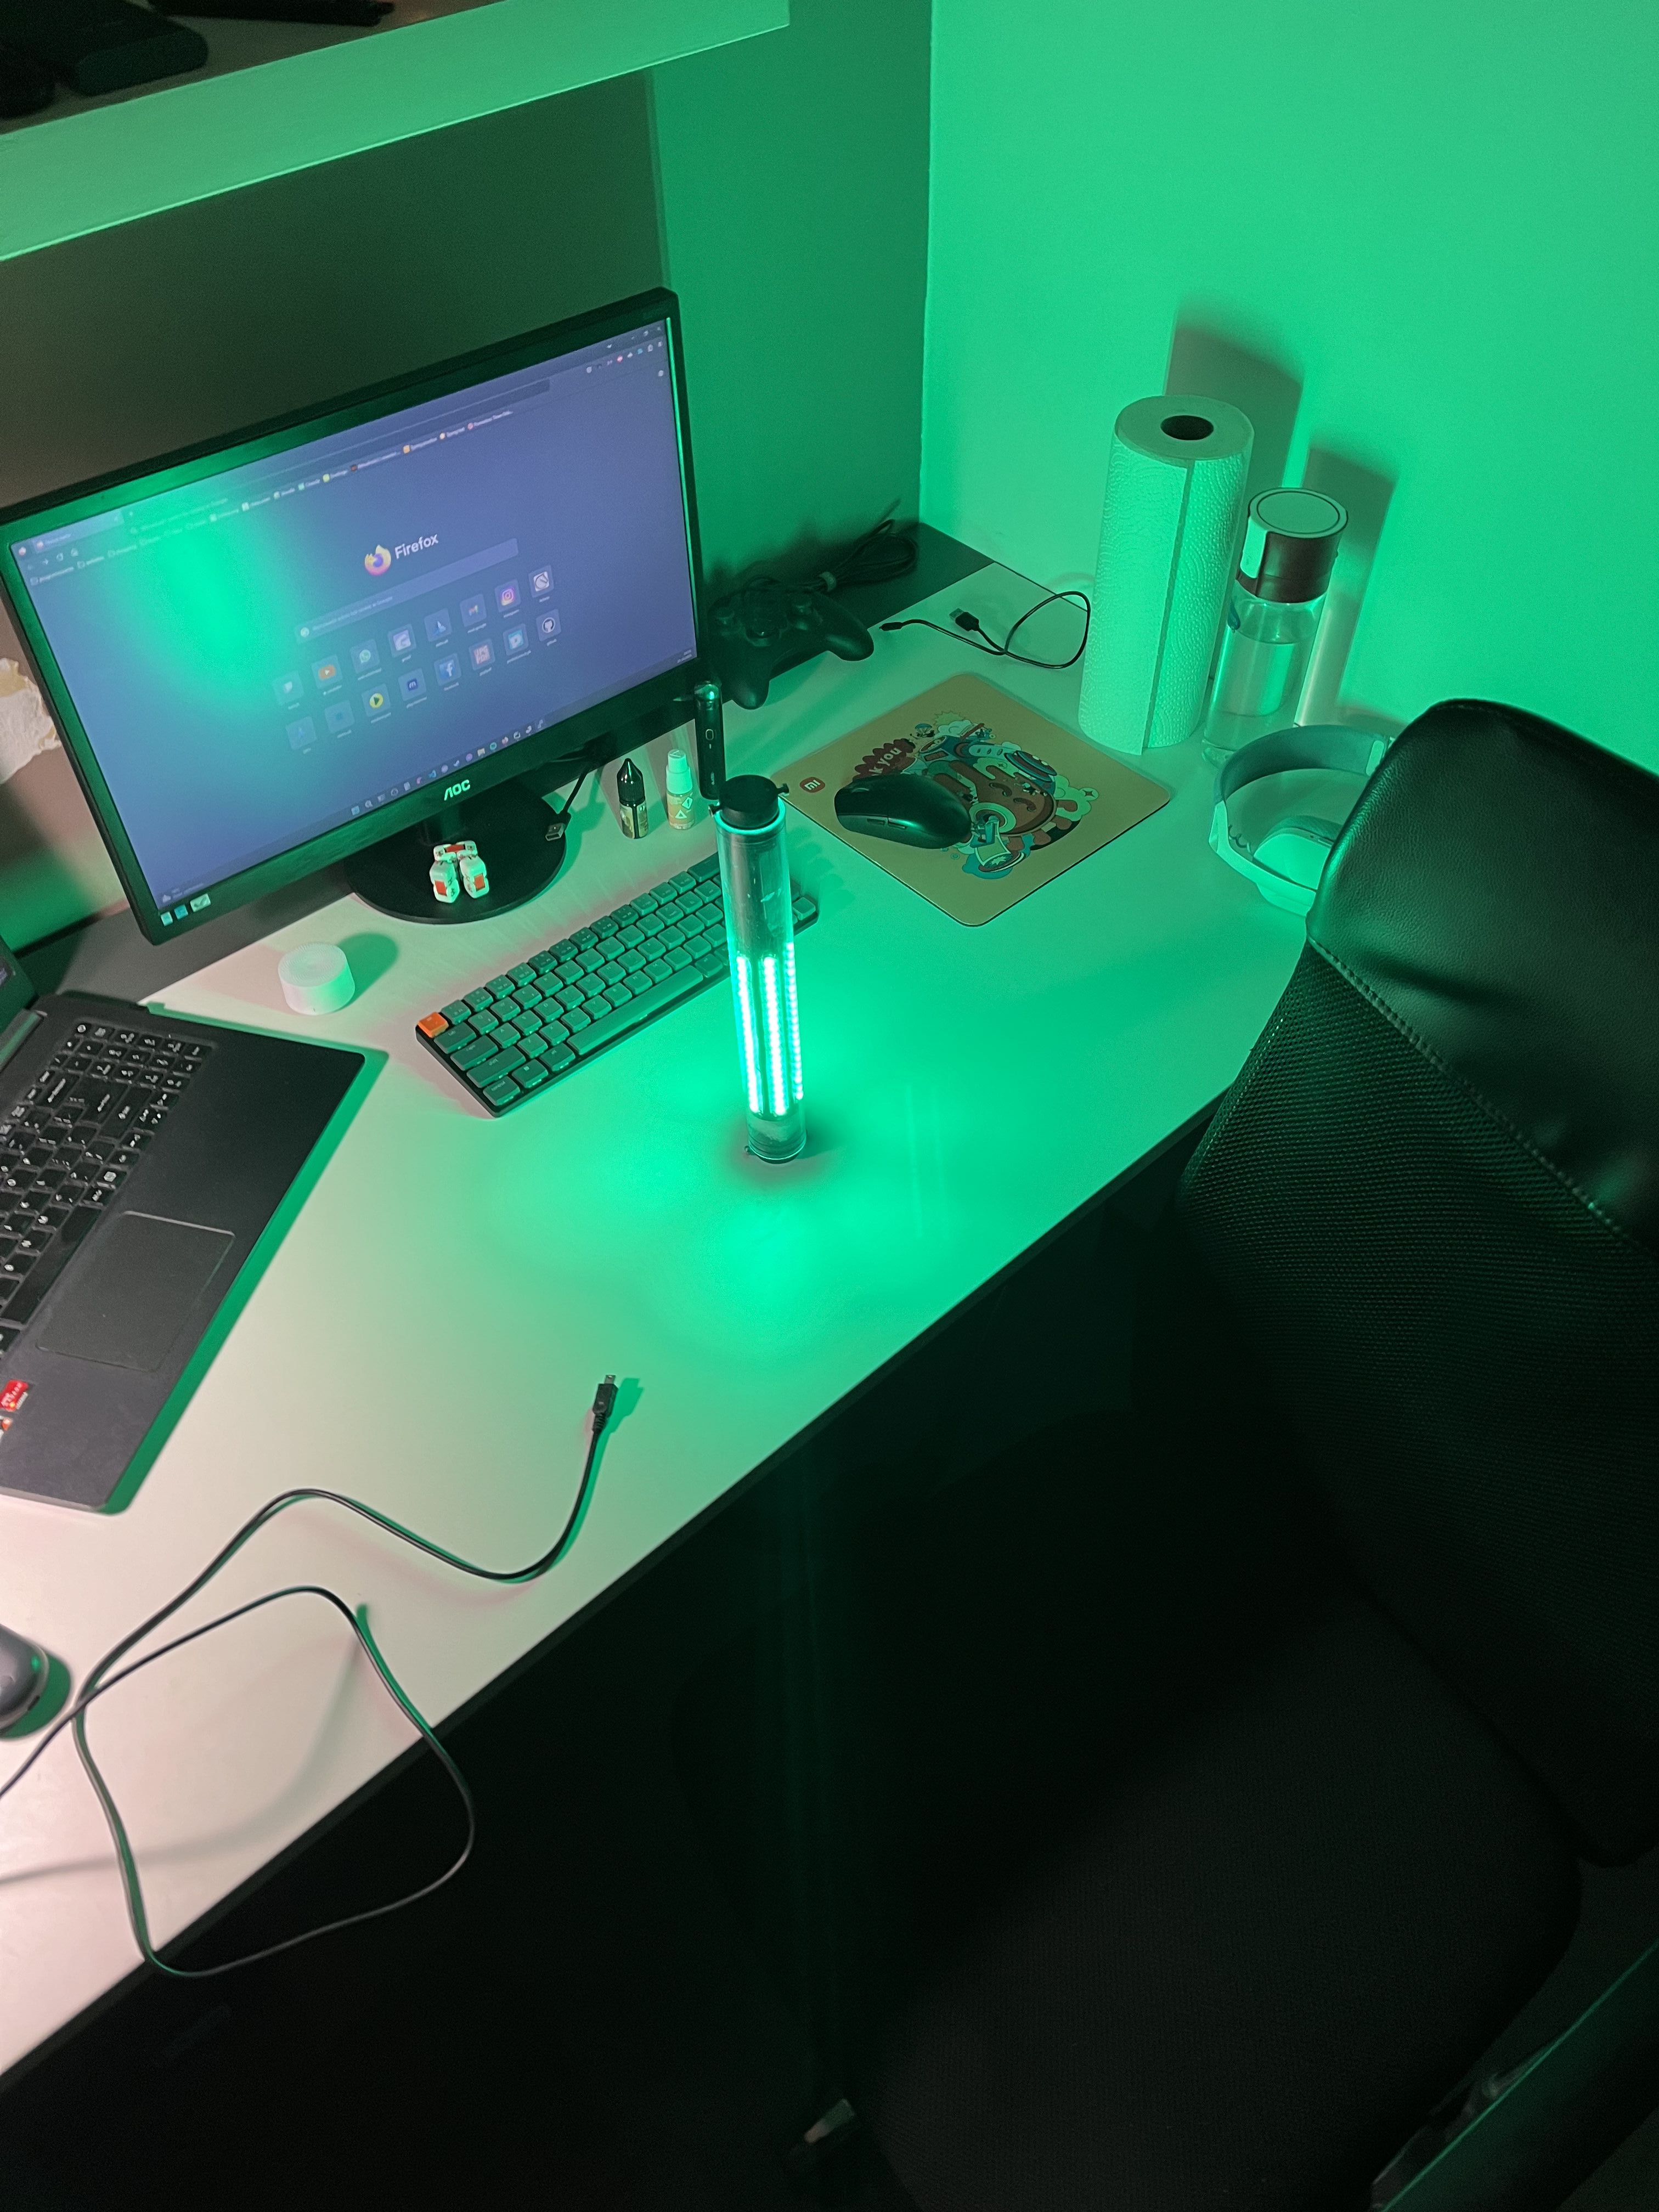green: (718, 810, 821, 1162)
